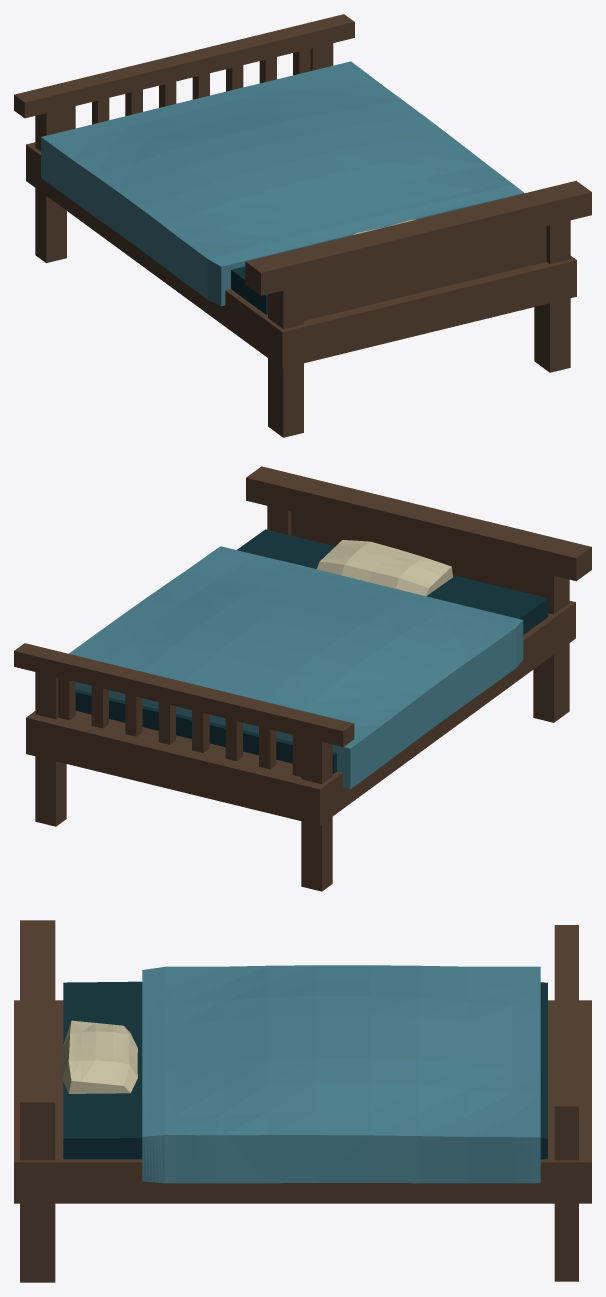
File: sonsbedfix.fbx
3 renders of one model, top to bottom at view 1: azimuth 30°, elevation 25°; view 2: azimuth 150°, elevation 25°; view 3: azimuth 270°, elevation 25°, orthographic. The views are drawn at different scales.
Parts seen in each view (by area): view 1: Bed1; view 2: Bed1; view 3: Bed1.
Part boxes in pixels (<box>): Bed1: <box>14,14,591,437</box>; Bed1: <box>14,466,591,891</box>; Bed1: <box>14,920,591,1282</box>.
Bounding box in the file's own units: 684 × 336 × 917.
